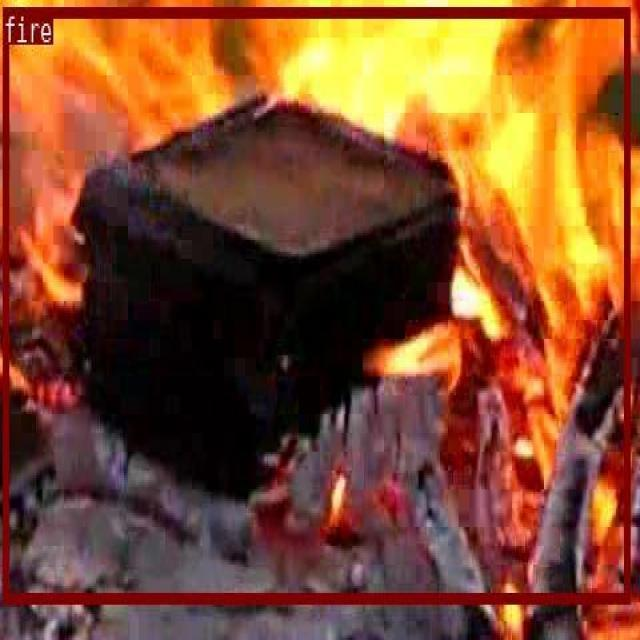fire: (2, 5, 629, 602)
